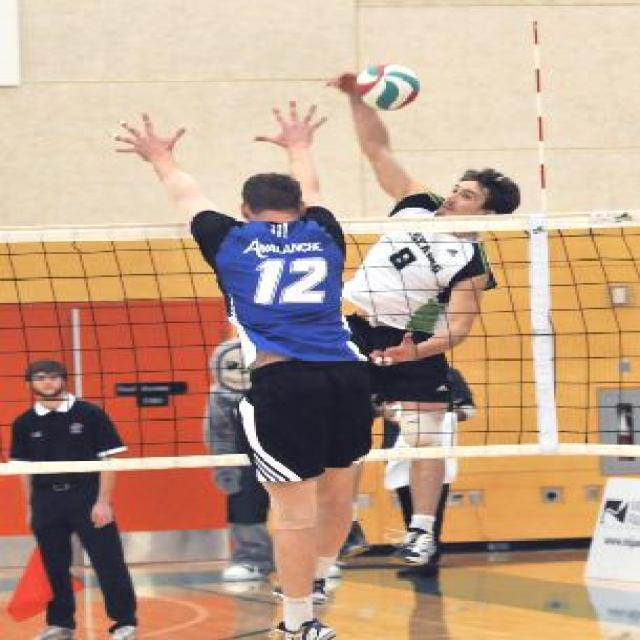volleyball: (354, 62, 422, 112)
